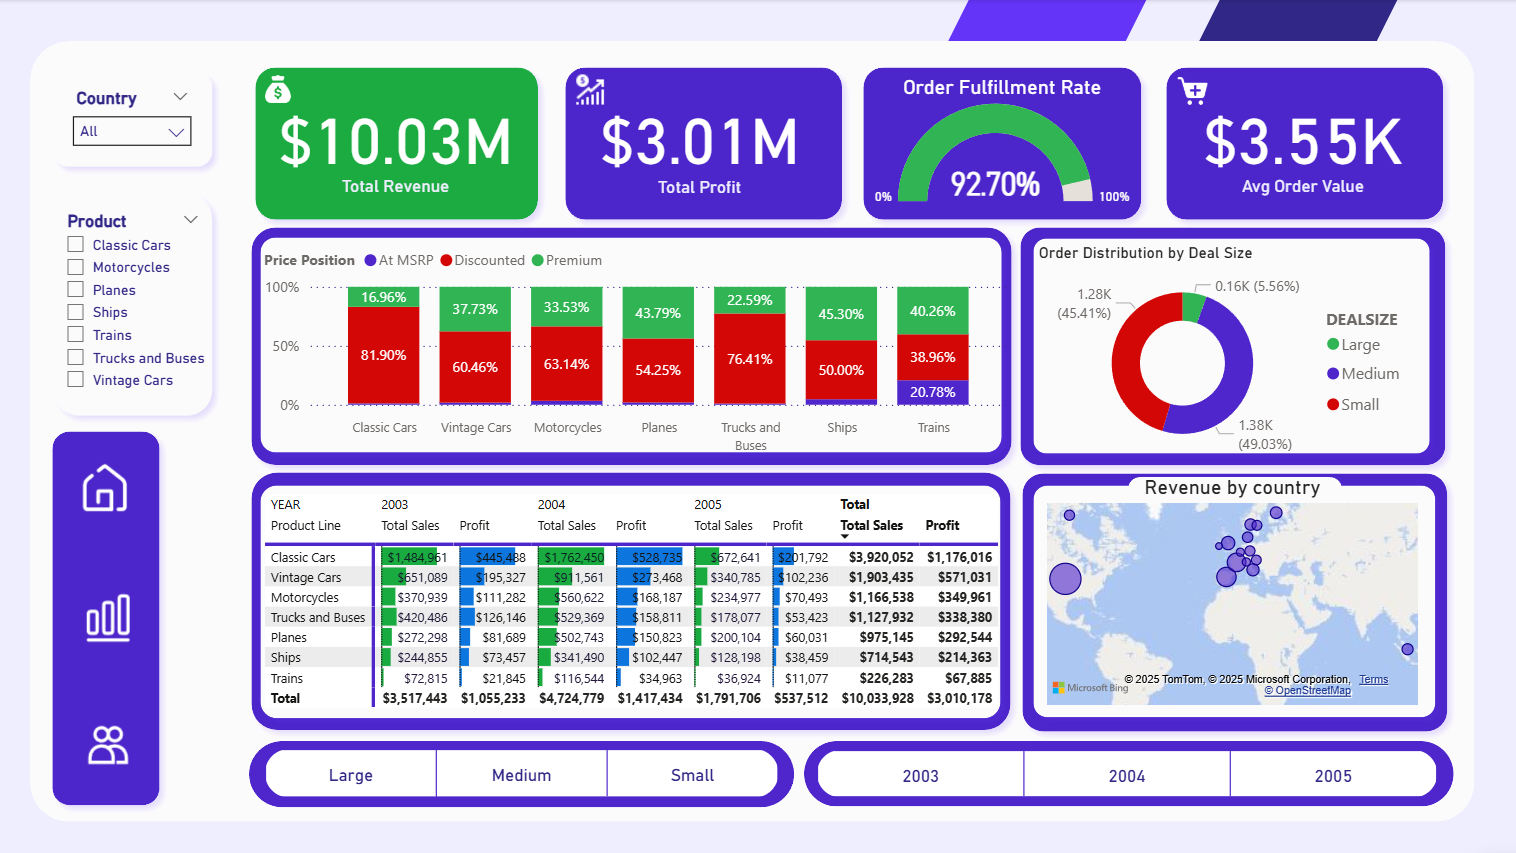

What the dashboard file says about the page in this screenshot:
{"tool":"powerbi","page":{"name":"Business Overview","canvas":[1280,720],"ordinal":0},"visuals":[{"type":"shape","box":[668.3,0,300.2,300.2],"z":0},{"type":"shape","box":[880.5,0,300.2,300.2],"z":1000},{"type":"shape","box":[27.2,35.4,1217.8,658.3],"z":2000},{"type":"shape","box":[207.8,49,255.8,145.9],"z":3000},{"type":"shape","box":[469.6,49,250.8,145.9],"z":4000},{"type":"shape","box":[720.4,49,251.8,145.9],"z":5000},{"type":"shape","box":[976.2,49,250.8,145.9],"z":6000},{"type":"shape","box":[211.8,625.5,459.6,56],"z":7000},{"type":"advancedSlicerVisual","fields":{"Values":["Sales.DEALSIZE"]},"box":[219.8,627.5,445.7,52],"z":8000},{"type":"shape","box":[679.2,625.7,547.7,55.3],"z":9000},{"type":"advancedSlicerVisual","fields":{"Values":["Sales.YEAR"]},"box":[685.5,628.4,535,50.8],"z":10000},{"type":"shape","box":[855,390.8,375.8,235.1],"z":11000},{"type":"shape","box":[864.2,401.7,356.4,213.1],"z":12000},{"type":"shape","box":[38.1,53.5,151.4,97],"z":13000},{"type":"slicer","fields":{"Values":["Sales.COUNTRY"]},"box":[53.5,70.7,119.7,63.5],"z":14000},{"type":"shape","box":[38.1,155.1,151.4,204.9],"z":15000},{"type":"slicer","fields":{"Values":["Sales.PRODUCTLINE"]},"box":[45.3,174.1,136,166.9],"z":16000},{"type":"shape","box":[37,356,107.9,332.7],"z":17000,"group":"g1"},{"type":"shape","box":[953,402.6,180.5,19.9],"z":17000},{"type":"actionButton","box":[66.1,491.8,52.6,60.8],"z":18000,"group":"g1"},{"type":"shape","box":[204.8,390.7,657.5,234.8],"z":18000},{"type":"actionButton","box":[61.6,382.9,57.1,58.9],"z":19000,"group":"g1"},{"type":"map","title":"Revenue by country","fields":{"Category":["data.COUNTRY"],"Size":["Sum(data.SALES)"]},"box":[879.6,401.7,322.8,199.5],"z":19000},{"type":"actionButton","box":[66.1,602.4,52.6,52.6],"z":20000,"group":"g1"},{"type":"shape","box":[212.8,401.7,641.5,213.8],"z":20000},{"type":"pivotTable","fields":{"Rows":["data.PRODUCTLINE"],"Columns":["data.YEAR"],"Values":["Sum(data.SALES)","Sum(Sales.Profit Margin)"]},"box":[219.8,412.7,628.5,190.9],"z":21000},{"type":"shape","box":[204.8,183.9,658.5,217.8],"z":22000},{"type":"shape","box":[212.8,191.9,642.5,198.8],"z":23000},{"type":"hundredPercentStackedColumnChart","title":"Revenue Mix by Pricing Strategy","fields":{"Y":["CountNonNull(Sales.ORDERNUMBER)"],"Category":["Sales.PRODUCTLINE"],"Series":["Sales.Price Position"]},"box":[219.4,200.4,636.6,190.4],"z":24000},{"type":"shape","box":[853,183.9,375.8,218],"z":25000},{"type":"shape","box":[864.1,192.9,351.6,198.9],"z":26000},{"type":"donutChart","title":"Order Distribution by Deal Size","fields":{"Y":["CountNonNull(Sales.DEALSIZE)"],"Series":["Sales.DEALSIZE"]},"box":[872.3,206.8,331,185.9],"z":27000},{"type":"card","fields":{"Values":["Sum(Sales.SALES)"]},"box":[207.7,64,255.7,113.4],"z":28000},{"type":"card","fields":{"Values":["Sum(Sales.Profit Margin)"]},"box":[469.8,64,243.9,114.3],"z":29000},{"type":"card","fields":{"Values":["Sum(Sales.Avg Order Value)"]},"box":[987.5,64.4,225.8,113.4],"z":30000},{"type":"gauge","title":"Order Fulfillment Rate","fields":{"Y":["Sales.Shipped Percentage"]},"box":[729.1,64.4,234.9,121.5],"z":31000},{"type":"image","box":[217.6,57.1,37.2,38.1],"z":32000},{"type":"image","box":[985.7,58.9,43.5,38.1],"z":33000},{"type":"image","box":[477,52.6,44.4,49],"z":34000},{"type":"group","id":"g1","title":"Group 1","box":[37,356,107.9,332.7],"z":35000}]}

Visuals, with their boxes in screenshot pixels (x1, y1, x2, y2):
shape: [left=784, top=4, right=1135, bottom=355]
shape: [left=1032, top=4, right=1383, bottom=355]
shape: [left=36, top=45, right=1458, bottom=814]
shape: [left=247, top=61, right=545, bottom=232]
shape: [left=552, top=61, right=845, bottom=232]
shape: [left=845, top=61, right=1139, bottom=232]
shape: [left=1144, top=61, right=1437, bottom=232]
shape: [left=251, top=735, right=788, bottom=800]
advancedSlicerVisual - Sales.DEALSIZE: [left=261, top=737, right=781, bottom=798]
shape: [left=797, top=735, right=1437, bottom=799]
advancedSlicerVisual - Sales.YEAR: [left=805, top=738, right=1429, bottom=797]
shape: [left=1003, top=460, right=1441, bottom=735]
shape: [left=1013, top=473, right=1430, bottom=722]
shape: [left=48, top=66, right=225, bottom=180]
slicer - Sales.COUNTRY: [left=66, top=87, right=206, bottom=161]
shape: [left=48, top=185, right=225, bottom=424]
slicer - Sales.PRODUCTLINE: [left=57, top=207, right=216, bottom=402]
shape: [left=47, top=420, right=173, bottom=808]
shape: [left=1117, top=474, right=1328, bottom=497]
actionButton: [left=81, top=578, right=143, bottom=649]
shape: [left=243, top=460, right=1011, bottom=735]
actionButton: [left=76, top=451, right=143, bottom=520]
"Revenue by country" map: [left=1031, top=473, right=1408, bottom=706]
actionButton: [left=81, top=708, right=143, bottom=769]
shape: [left=252, top=473, right=1002, bottom=723]
pivotTable - data.PRODUCTLINE x data.YEAR: [left=261, top=486, right=995, bottom=709]
shape: [left=243, top=219, right=1012, bottom=473]
shape: [left=252, top=228, right=1003, bottom=460]
"Revenue Mix by Pricing Strategy" hundredPercentStackedColumnChart: [left=260, top=238, right=1004, bottom=460]
shape: [left=1000, top=219, right=1439, bottom=473]
shape: [left=1013, top=229, right=1424, bottom=462]
"Order Distribution by Deal Size" donutChart: [left=1023, top=246, right=1409, bottom=463]
card - Sum(Sales.SALES): [left=247, top=79, right=545, bottom=211]
card - Sum(Sales.Profit Margin): [left=553, top=79, right=838, bottom=212]
card - Sum(Sales.Avg Order Value): [left=1157, top=79, right=1421, bottom=212]
"Order Fulfillment Rate" gauge: [left=855, top=79, right=1130, bottom=221]
image: [left=258, top=71, right=302, bottom=115]
image: [left=1155, top=73, right=1206, bottom=117]
image: [left=561, top=65, right=613, bottom=123]
"Group 1" group: [left=47, top=420, right=173, bottom=808]
